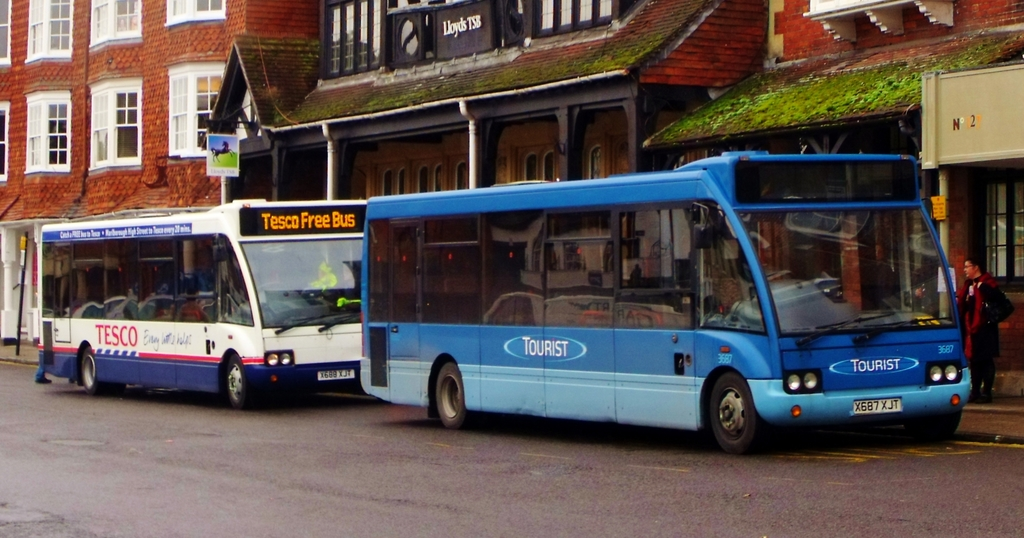Bus: (359, 153, 973, 449), (35, 197, 367, 410)
